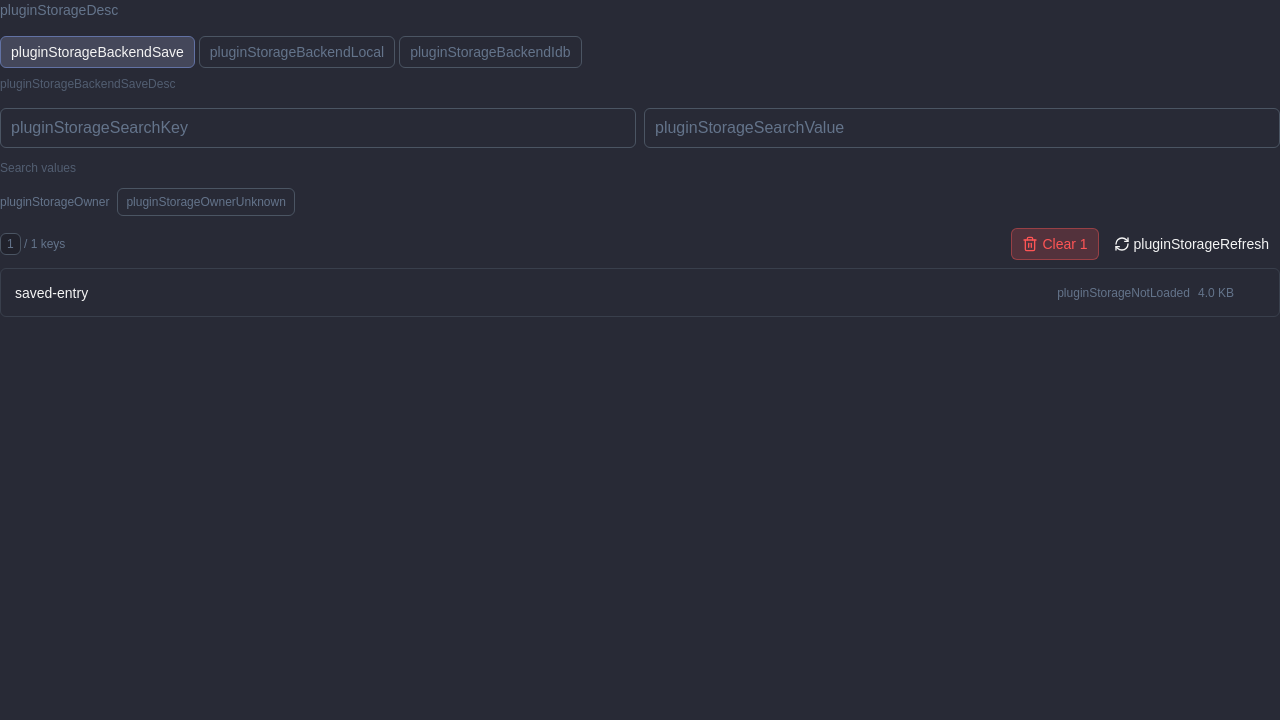
Test: plugin storage binary display › keeps save rows lazy and retains their indexed storage size after opening
Click the button "saved-entry pluginStorageNotLoaded 4.0 KB": click(52, 292) left=15, top=284, right=1234, bottom=300
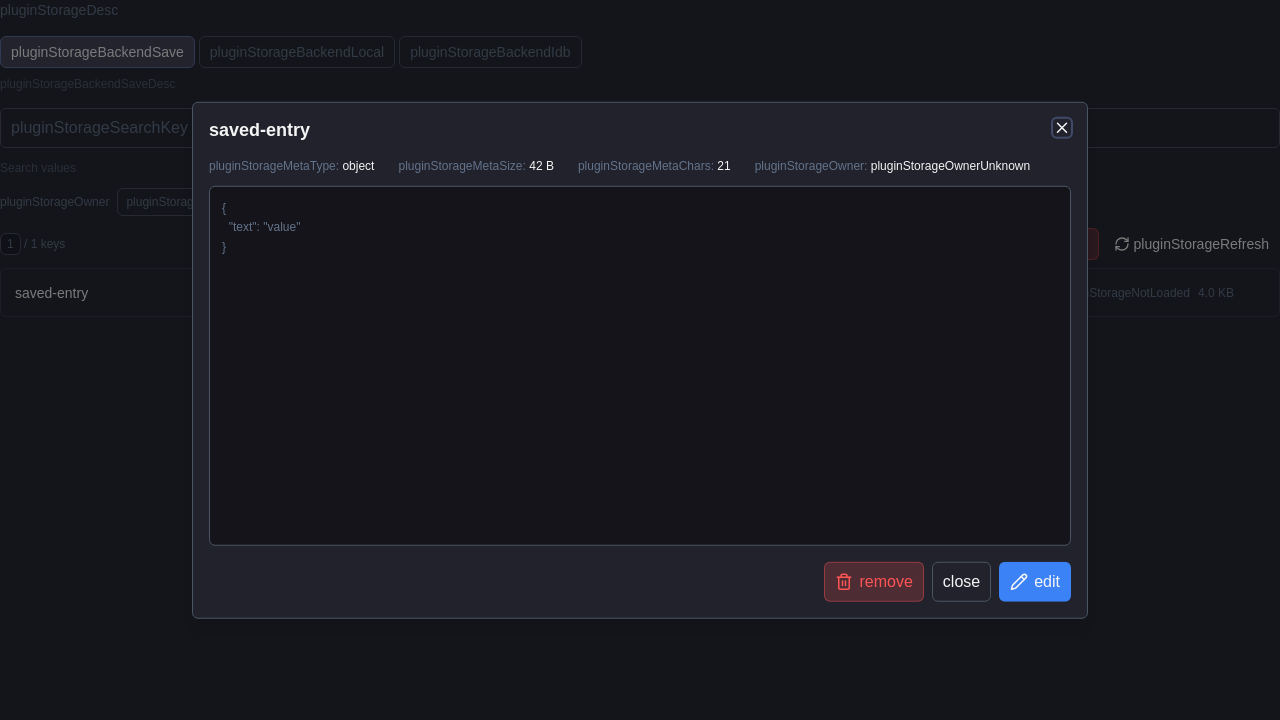
Expected: the text "{ \"text\": \"value\" }" shows "\"text\": \"value\"", left=222, top=200, right=300, bottom=253
Expected: the button "edit" is enabled, left=999, top=561, right=1071, bottom=601
